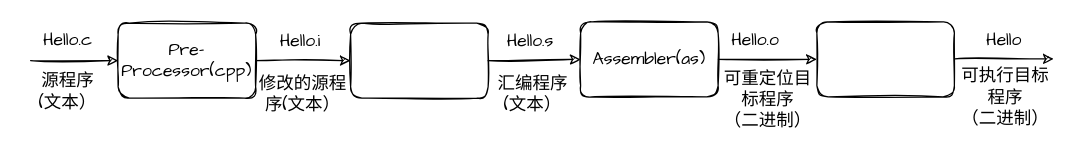
Some shapes in this 1086 by 154 pixel diagram are drawn without their labels. The shapes that lost their labels are listed below. From the top down, each one's centre as x and y in pixels, then its label:
At pixel 418 60: "Compiler(cc1)".
At pixel 885 59: "Linker(ld)".
